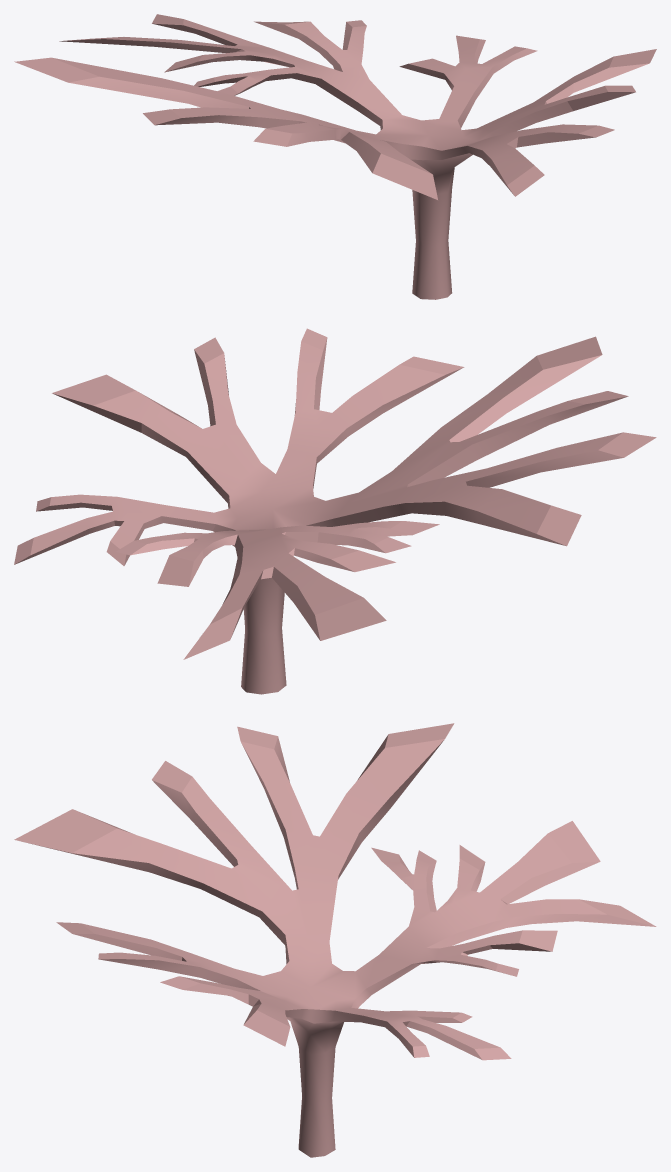
Rendered from coral_2.fbx.
3 renders of one model, top to bottom at view 1: azimuth 30°, elevation 25°; view 2: azimuth 150°, elevation 25°; view 3: azimuth 270°, elevation 25°, orthographic. The views are drawn at different scales.
Parts seen in each view (by area): view 1: pPlane34; view 2: pPlane34; view 3: pPlane34.
Boxes of the visible parts, left/top/right/bottom form: pPlane34: left=14, top=14, right=656, bottom=299; pPlane34: left=14, top=328, right=656, bottom=694; pPlane34: left=14, top=723, right=656, bottom=1157.
Bounding box in the file's own units: 324 × 155 × 332.
